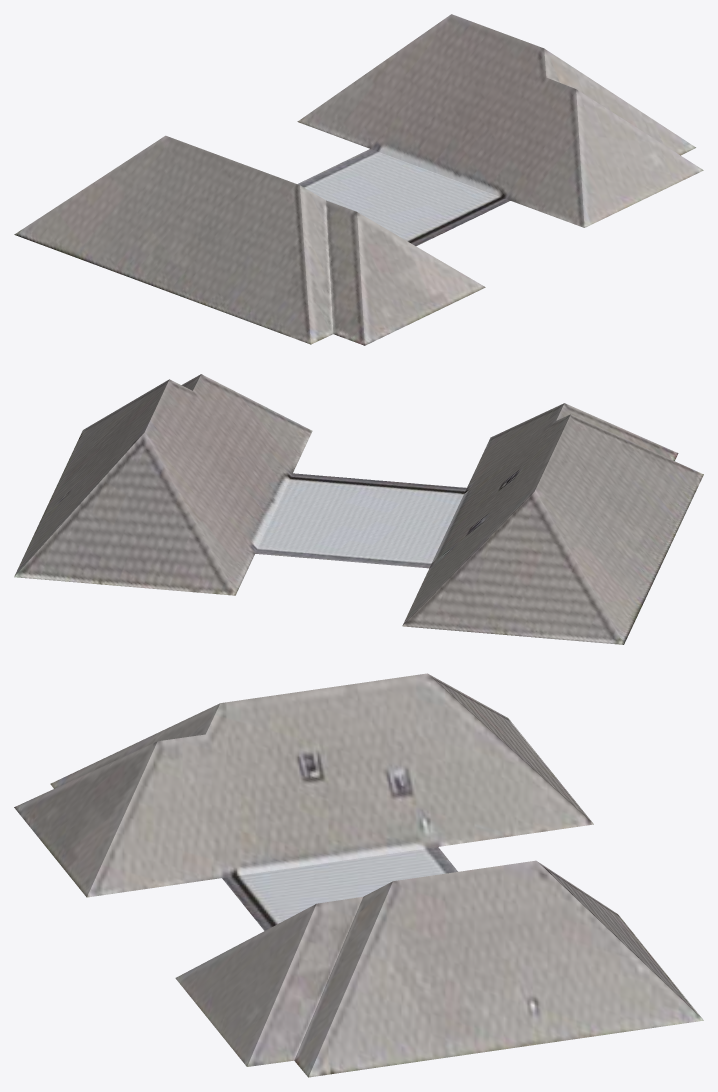
Rendered from BJ39_500_100047_0008_roof.obj.
3 renders of one model, top to bottom at view 1: azimuth 30°, elevation 25°; view 2: azimuth 150°, elevation 25°; view 3: azimuth 270°, elevation 25°, orthographic. The views are drawn at different scales.
Visible parts, largest first — view 1: BJ39_500_100047_0008_roof; view 2: BJ39_500_100047_0008_roof; view 3: BJ39_500_100047_0008_roof.
Part boxes in pixels (<box>): BJ39_500_100047_0008_roof: <box>14,14,703,345</box>; BJ39_500_100047_0008_roof: <box>14,374,703,644</box>; BJ39_500_100047_0008_roof: <box>14,673,703,1077</box>.
Size of the model in its own units: 466 by 76.23 by 378.
1 material, 1 textured.
